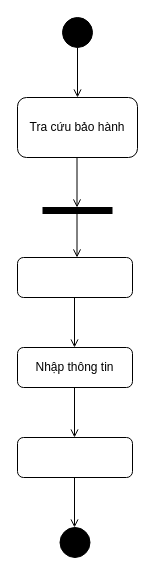
Image size: 155x575. Some labels were removed from this diagram. The centre of each missing label's shape, as x and y in pixels:
Kết quả tra cứu: the point at 74,457
Theo mã bảo hành: the point at 74,277
